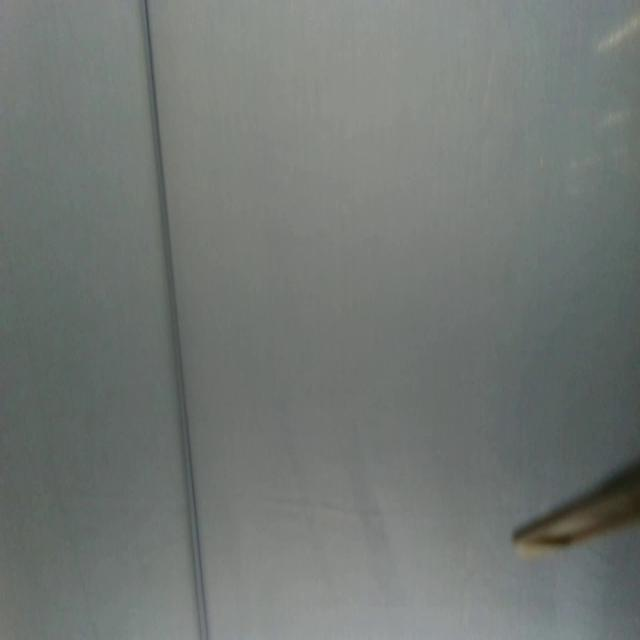crease: (140, 0, 209, 640)
